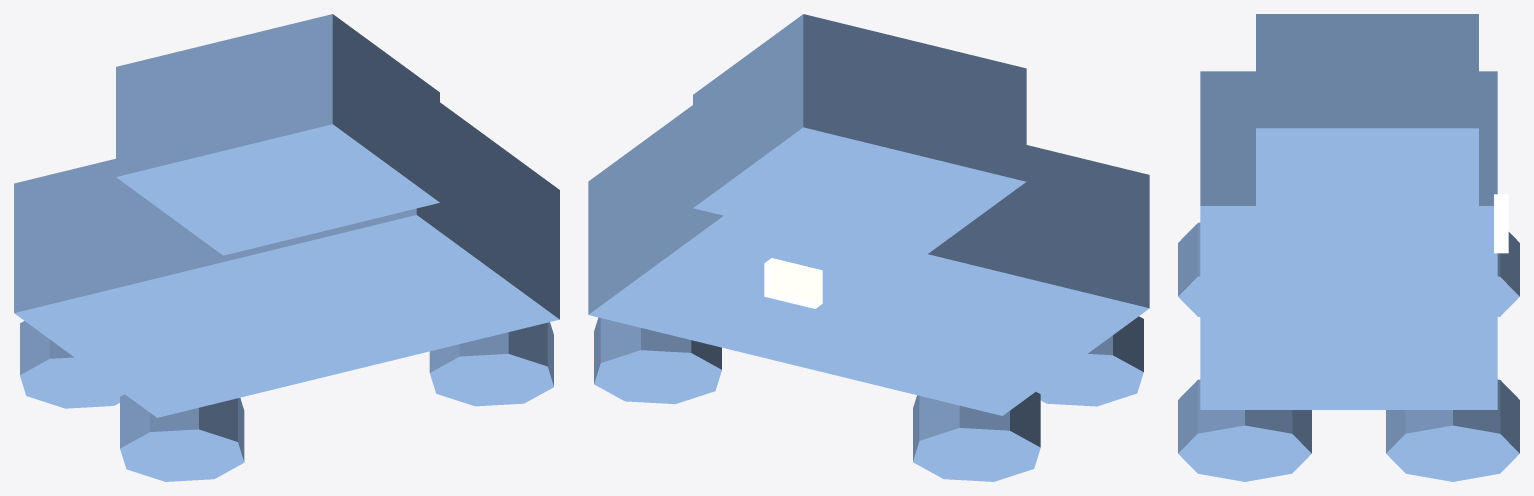
Rendered from vehicle.glb.
3 renders of one model, left to right at view 1: azimuth 30°, elevation 25°; view 2: azimuth 150°, elevation 25°; view 3: azimuth 270°, elevation 25°, orthographic. The views are drawn at different scales.
Parts seen in each view (by area): view 1: vehicle; view 2: vehicle; view 3: vehicle.
Part boxes in pixels (bbox=[...]): vehicle: bbox=[14, 14, 559, 481]; vehicle: bbox=[588, 14, 1149, 481]; vehicle: bbox=[1178, 14, 1519, 481].
Size of the model in its own units: 1.36 by 0.91 by 0.92.
